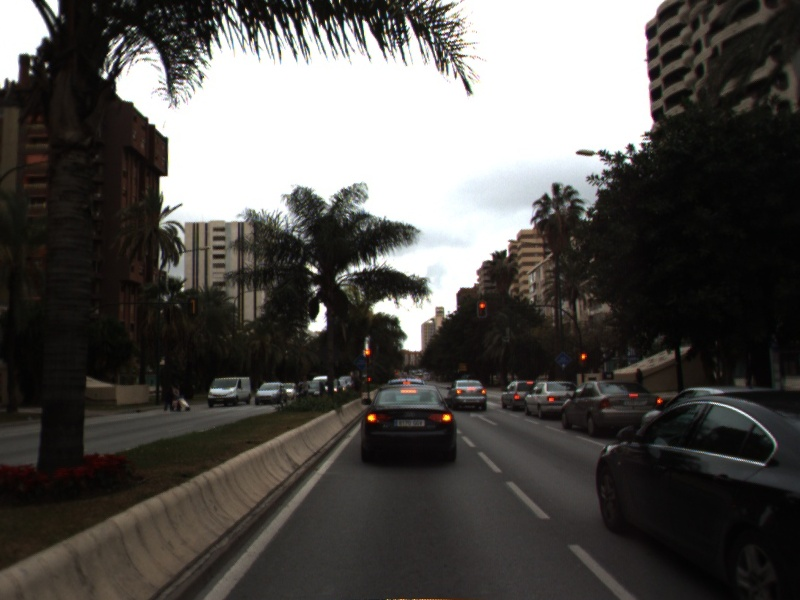STRAIGHT: (468, 409, 500, 427)
